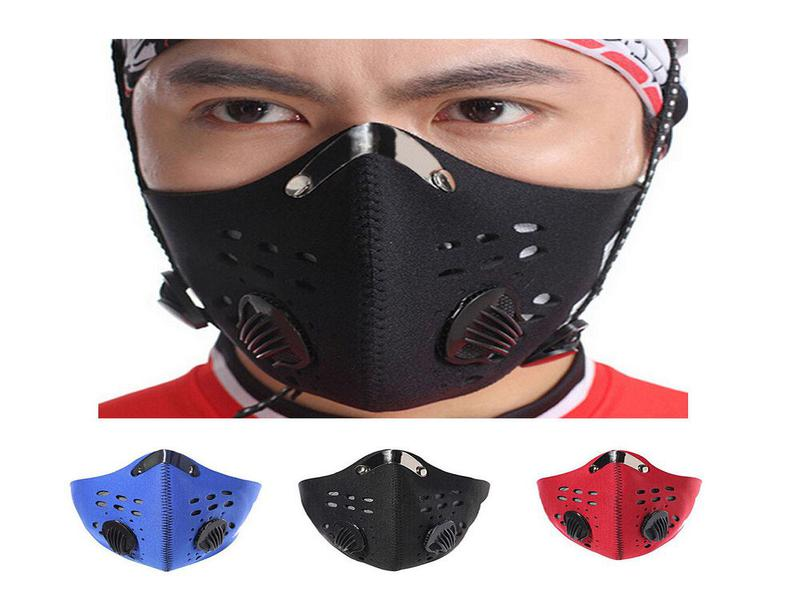with_mask: (112, 42, 684, 409)
